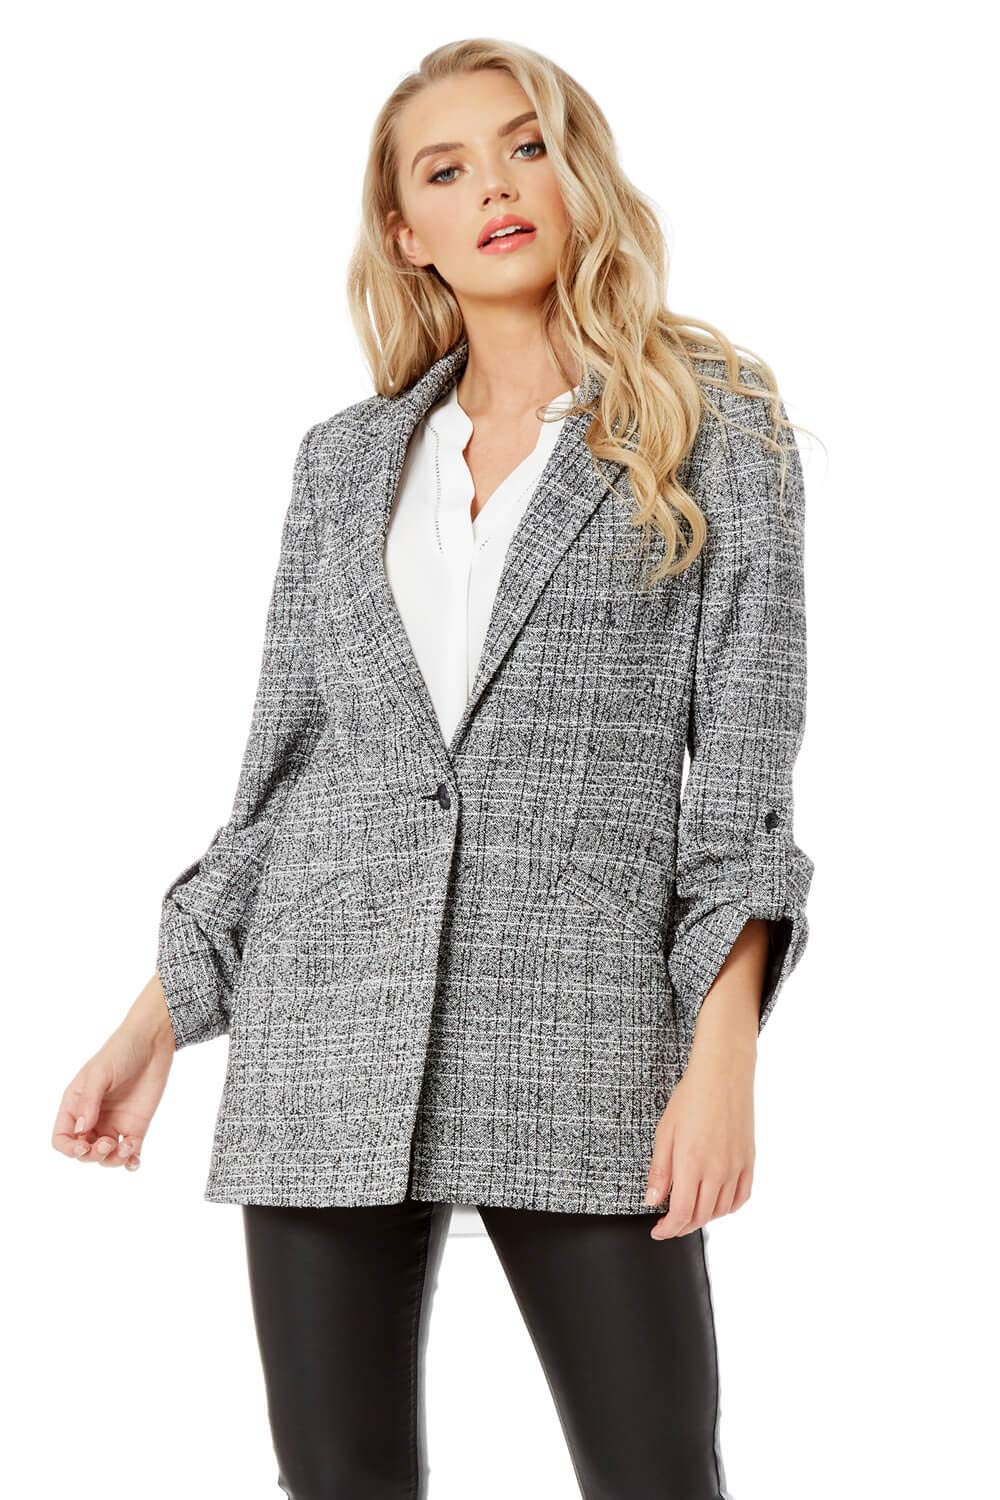F_W_suit jacket: (180, 344, 837, 1169)
